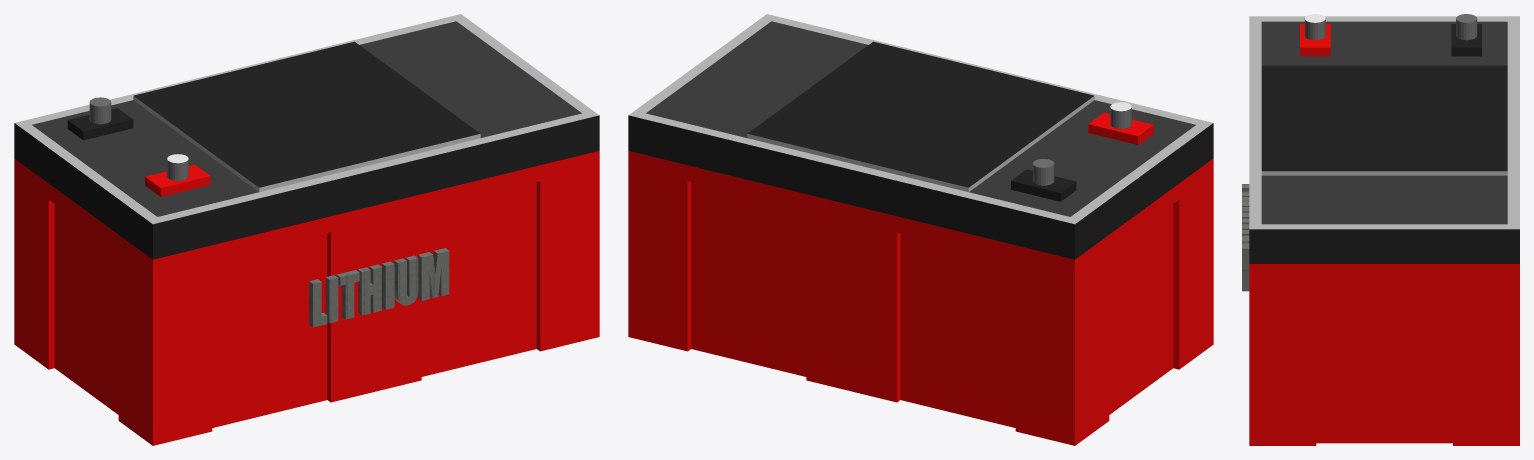
The model's file is Lithium_Battery.fbx.
The picture shows the model from 3 angles, left to right: view 1: azimuth 30°, elevation 25°; view 2: azimuth 150°, elevation 25°; view 3: azimuth 270°, elevation 25°; orthographic projection. The views are drawn at different scales.
Parts seen in each view (by area): view 1: Lithium_Battery-SKP-Color_A01, Lithium_Battery-SKP-Color_008, Lithium_Battery-SKP-Color_007, Lithium_Battery-SKP-Color_002, Lithium_Battery-COM-LITHIUM-67430-Metal_Seamed, Lithium_Battery-SKP-Color_005; view 2: Lithium_Battery-SKP-Color_A01, Lithium_Battery-SKP-Color_008, Lithium_Battery-SKP-Color_007, Lithium_Battery-SKP-Color_002, Lithium_Battery-SKP-Color_005; view 3: Lithium_Battery-SKP-Color_A01, Lithium_Battery-SKP-Color_008, Lithium_Battery-SKP-Color_007, Lithium_Battery-SKP-Color_002, Lithium_Battery-SKP-Color_005, Lithium_Battery-COM-LITHIUM-67430-Metal_Seamed.
Part boxes in pixels (bbox=[...]): Lithium_Battery-SKP-Color_A01: bbox=[14, 151, 599, 445]; Lithium_Battery-SKP-Color_008: bbox=[14, 41, 599, 259]; Lithium_Battery-SKP-Color_007: bbox=[32, 21, 581, 216]; Lithium_Battery-SKP-Color_002: bbox=[15, 14, 598, 224]; Lithium_Battery-COM-LITHIUM-67430-Metal_Seamed: bbox=[309, 248, 449, 327]; Lithium_Battery-SKP-Color_005: bbox=[89, 97, 188, 180]; Lithium_Battery-SKP-Color_A01: bbox=[628, 112, 1213, 445]; Lithium_Battery-SKP-Color_008: bbox=[628, 41, 1213, 259]; Lithium_Battery-SKP-Color_007: bbox=[646, 21, 1195, 216]; Lithium_Battery-SKP-Color_002: bbox=[629, 14, 1212, 224]; Lithium_Battery-SKP-Color_005: bbox=[1033, 107, 1131, 185]; Lithium_Battery-SKP-Color_A01: bbox=[1249, 24, 1519, 445]; Lithium_Battery-SKP-Color_008: bbox=[1249, 24, 1519, 263]; Lithium_Battery-SKP-Color_007: bbox=[1261, 21, 1507, 224]; Lithium_Battery-SKP-Color_002: bbox=[1249, 16, 1519, 229]; Lithium_Battery-SKP-Color_005: bbox=[1304, 14, 1477, 40]; Lithium_Battery-COM-LITHIUM-67430-Metal_Seamed: bbox=[1242, 184, 1249, 291].
Size of the model in its own units: 0.527 by 0.28 by 0.2907.
